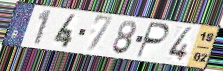1: (32, 9, 53, 47)
4: (165, 26, 194, 64), (52, 13, 78, 49)
7: (82, 15, 115, 55)
8: (110, 19, 138, 56)
P: (134, 21, 171, 60)
